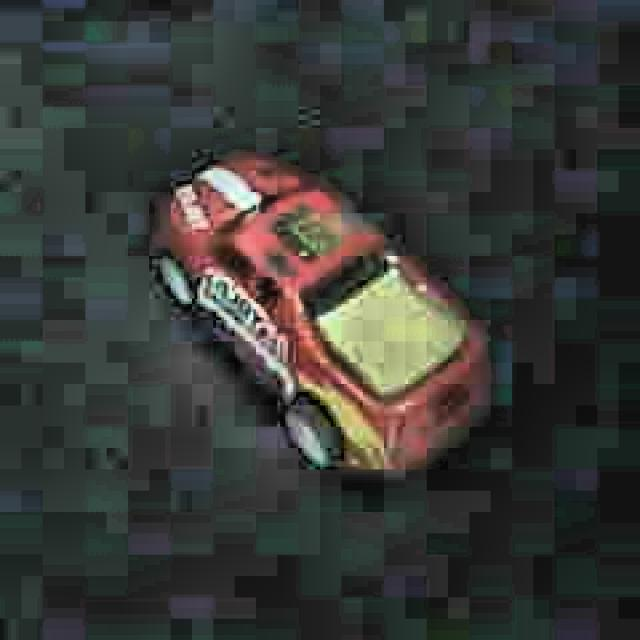car: (139, 134, 498, 490)
